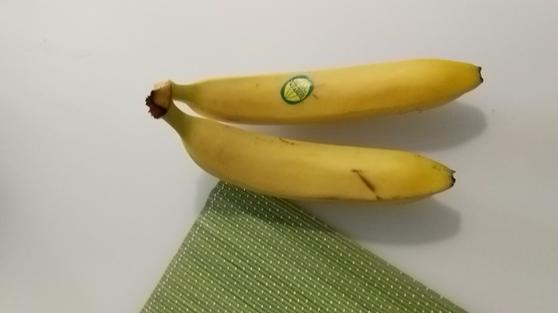banana: (135, 92, 457, 201), (150, 59, 484, 123)
